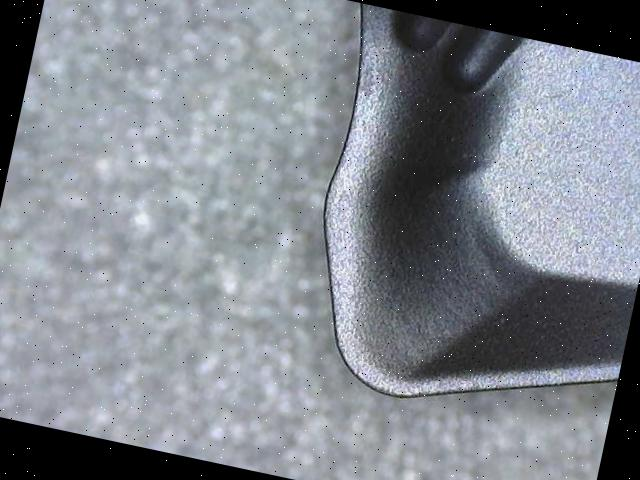normal: (322, 3, 621, 399)
